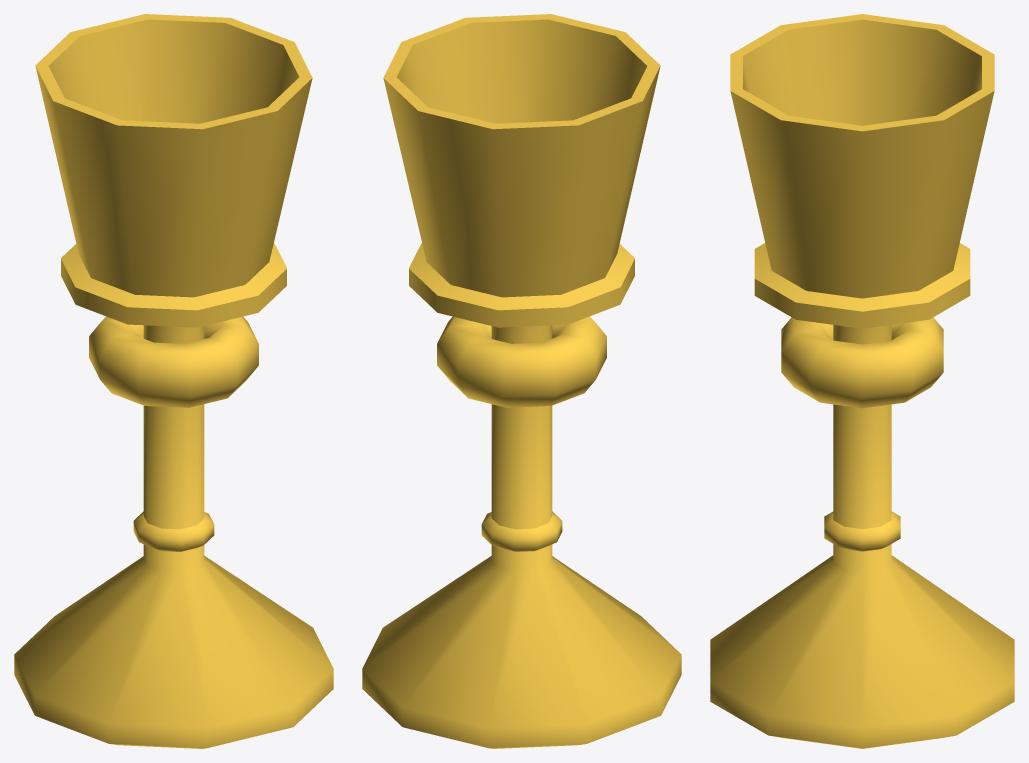
The model's file is goblet.gltf.
3 views of the same model, side by side, from view 1: azimuth 30°, elevation 25°; view 2: azimuth 150°, elevation 25°; view 3: azimuth 270°, elevation 25° (orthographic).
Parts seen in each view (by area): view 1: Goblet; view 2: Goblet; view 3: Goblet.
Boxes of the visible parts, <box> form: Goblet: <box>14,14,333,748</box>; Goblet: <box>362,14,681,748</box>; Goblet: <box>710,14,1014,748</box>.
Size of the model in its own units: 0.0961 by 0.2048 by 0.0914.
1 material, 1 textured.
